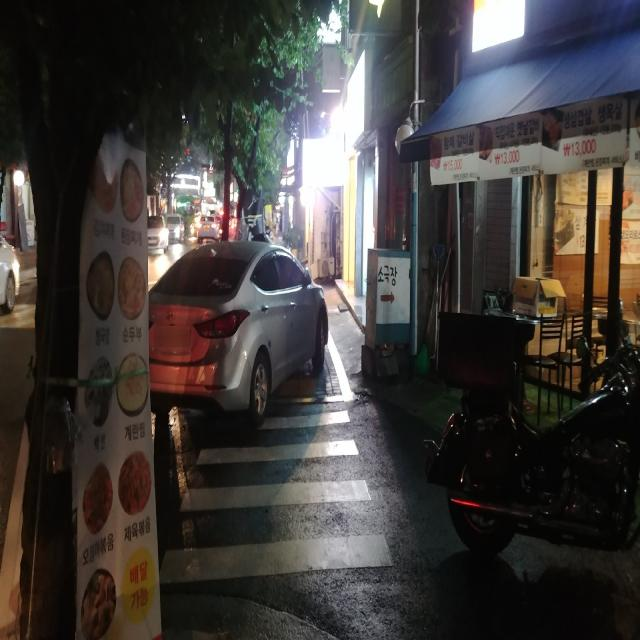횡단보도: (158, 408, 395, 588)
